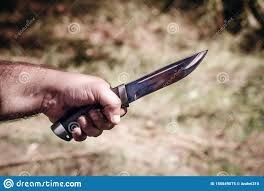knife: (50, 50, 207, 142)
